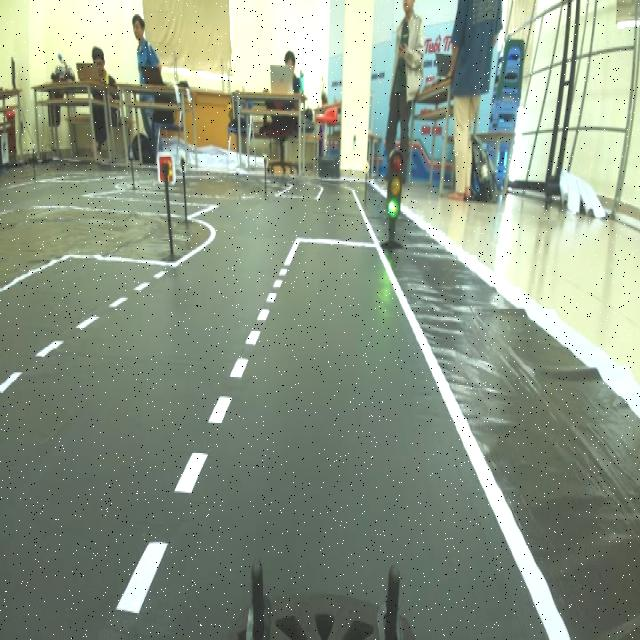trafficlight: (377, 147, 405, 270)
